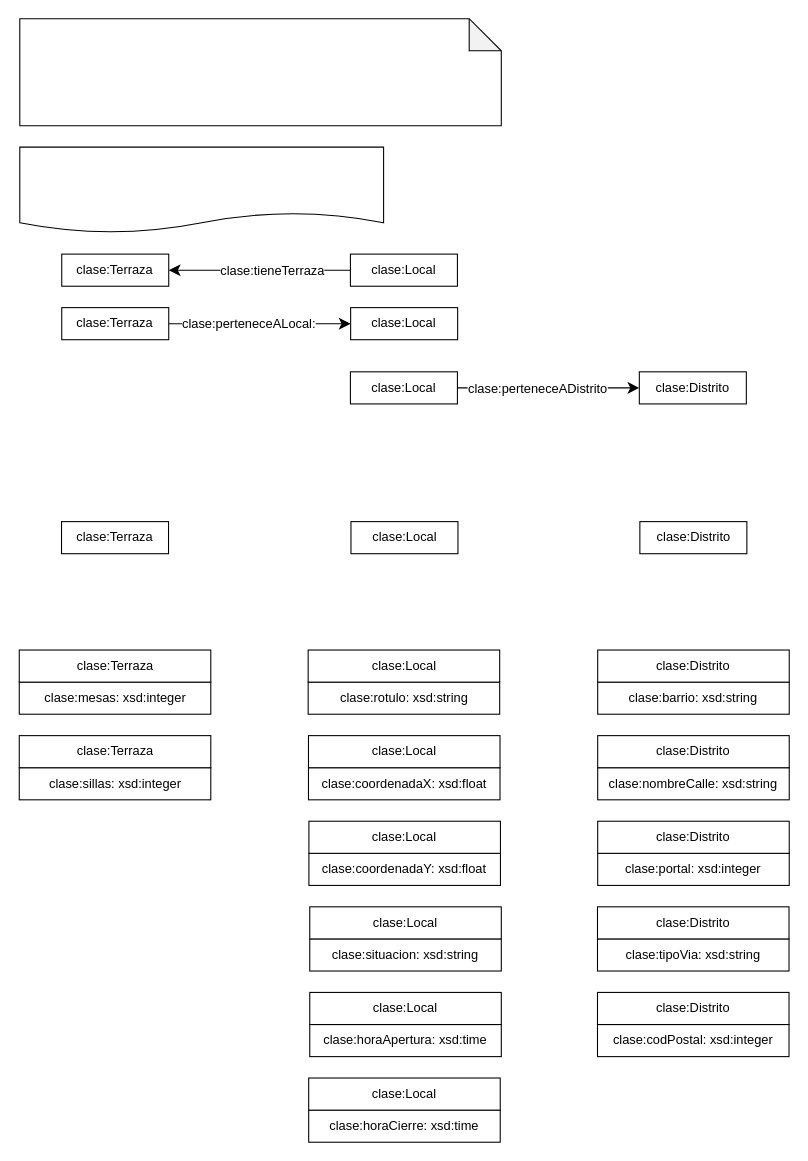
Some shapes in this 808 by 1161 pixel diagram are drawn without their labels. The shapes that lost their labels are listed below. From the top down, each one's centre as x and y in pixels, then its label:
point 260,72: clase: http://madridalfresco.es/lcc/ontology/locales#
point 201,189: dc:creator: Group02 owl:versionInfo: 0.0.1 dc:title: HandsOn2
